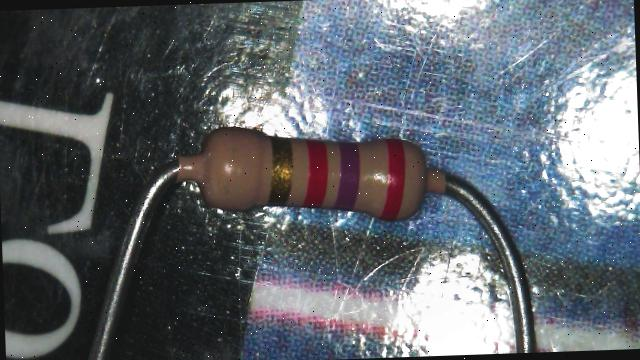gold: (266, 134, 294, 206)
red: (377, 138, 408, 221), (302, 140, 329, 207)
resistor: (182, 110, 454, 238)
violet: (331, 142, 362, 210)
